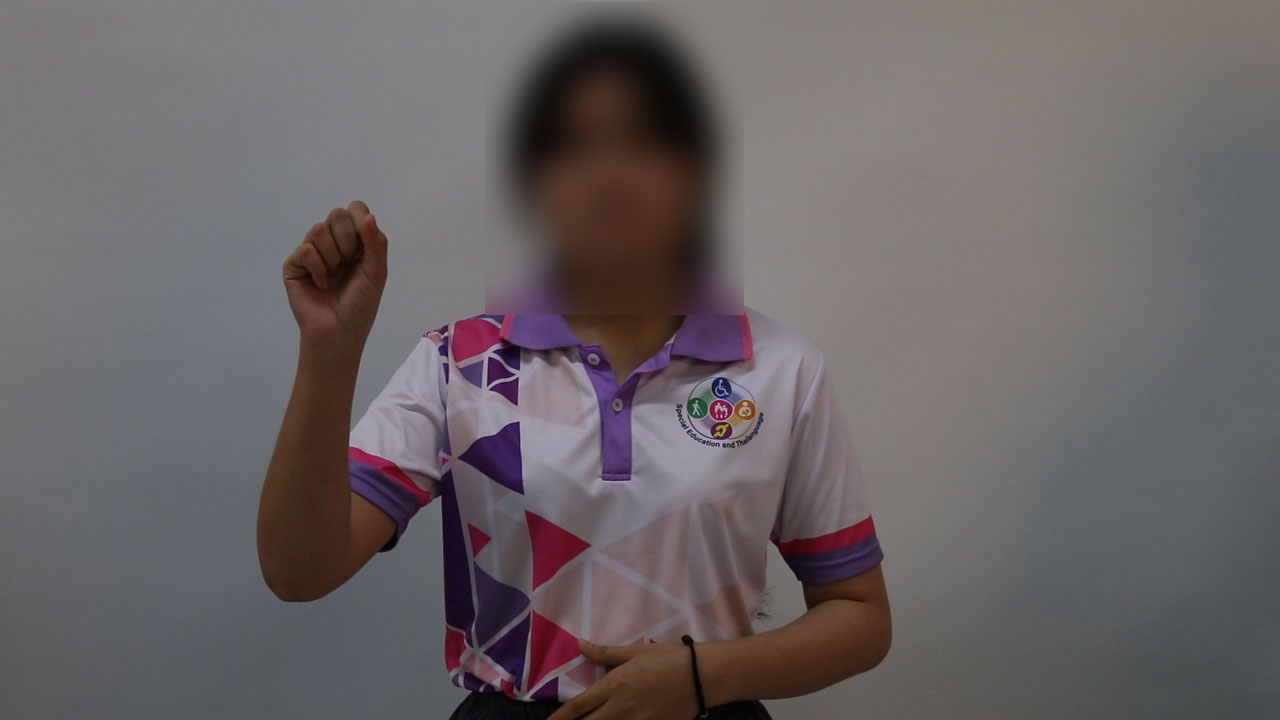sor: (272, 186, 400, 351)
